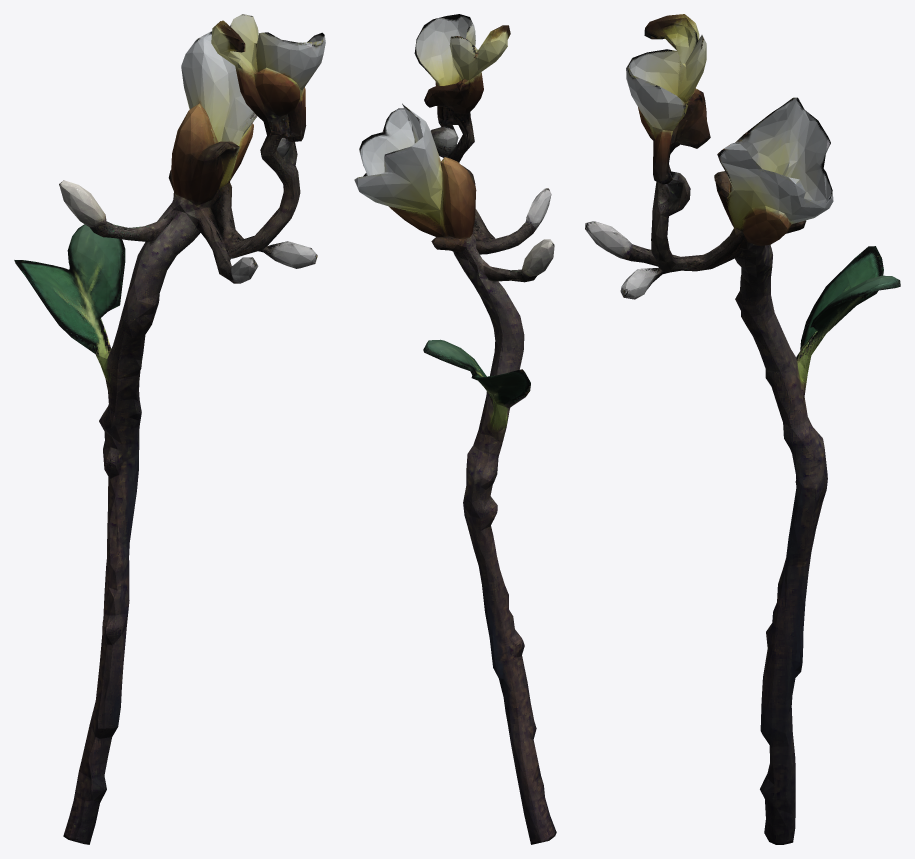
Rendered from flower2.obj.
The picture shows the model from 3 angles, left to right: view 1: azimuth 30°, elevation 25°; view 2: azimuth 150°, elevation 25°; view 3: azimuth 270°, elevation 25°; orthographic projection. The views are drawn at different scales.
Visible parts, largest first — view 1: geometry_0; view 2: geometry_0; view 3: geometry_0.
Part boxes in pixels (x1,y1,x2,y2): geometry_0: [14, 14, 325, 844]; geometry_0: [354, 14, 556, 844]; geometry_0: [585, 14, 900, 844].
Size of the model in its own units: 70.1 by 261 by 85.14.
1 material, 1 textured.
